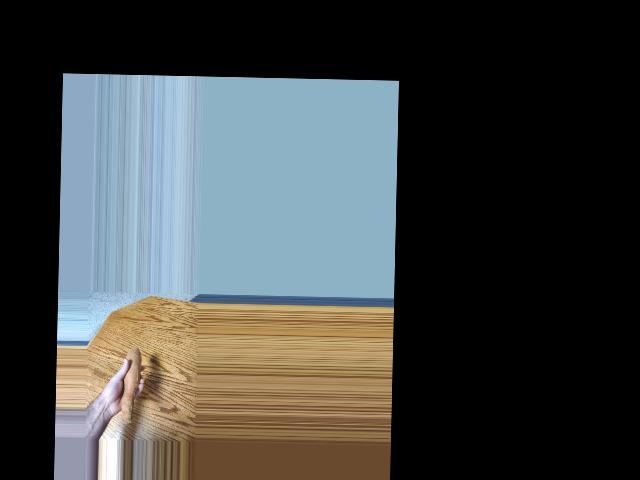sweet_potato: (116, 343, 141, 425)
